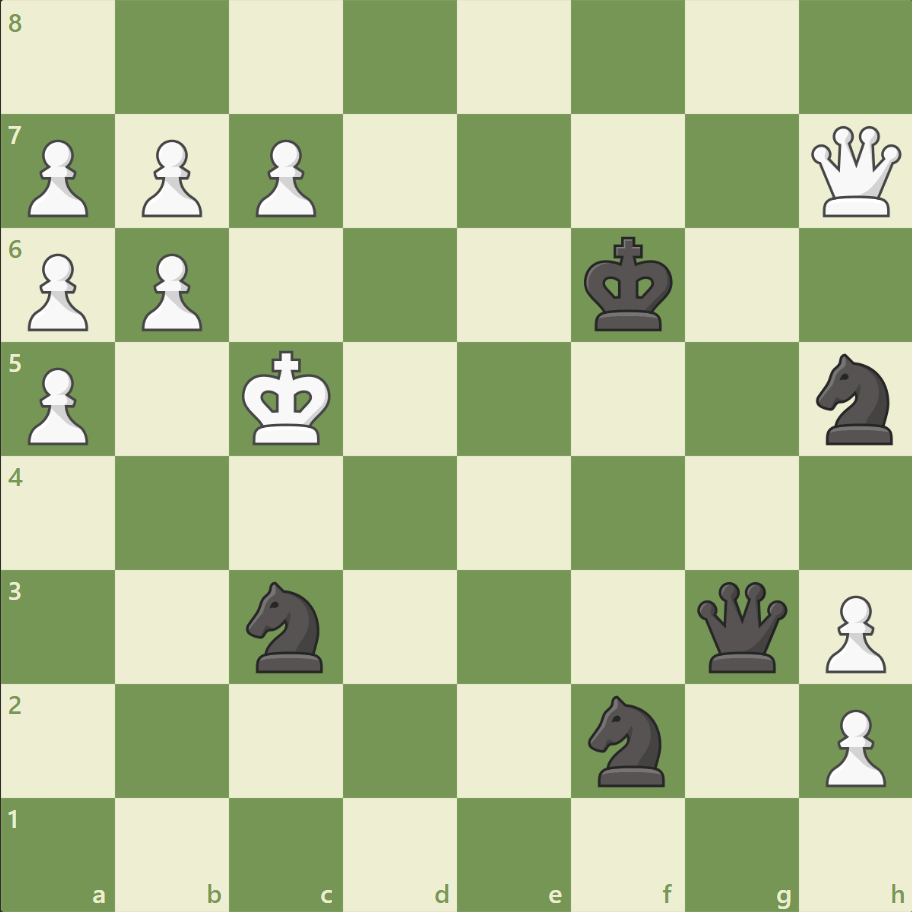K: (238, 344, 338, 452)
P: (20, 132, 95, 223), (133, 132, 208, 223), (247, 132, 322, 223), (20, 246, 95, 337), (133, 246, 208, 337), (20, 359, 95, 450), (815, 586, 889, 677), (815, 700, 889, 791)
Q: (805, 122, 904, 222)
k: (579, 231, 679, 339)
n: (579, 688, 676, 791), (806, 348, 903, 450), (238, 575, 335, 677)
q: (691, 576, 790, 676)
